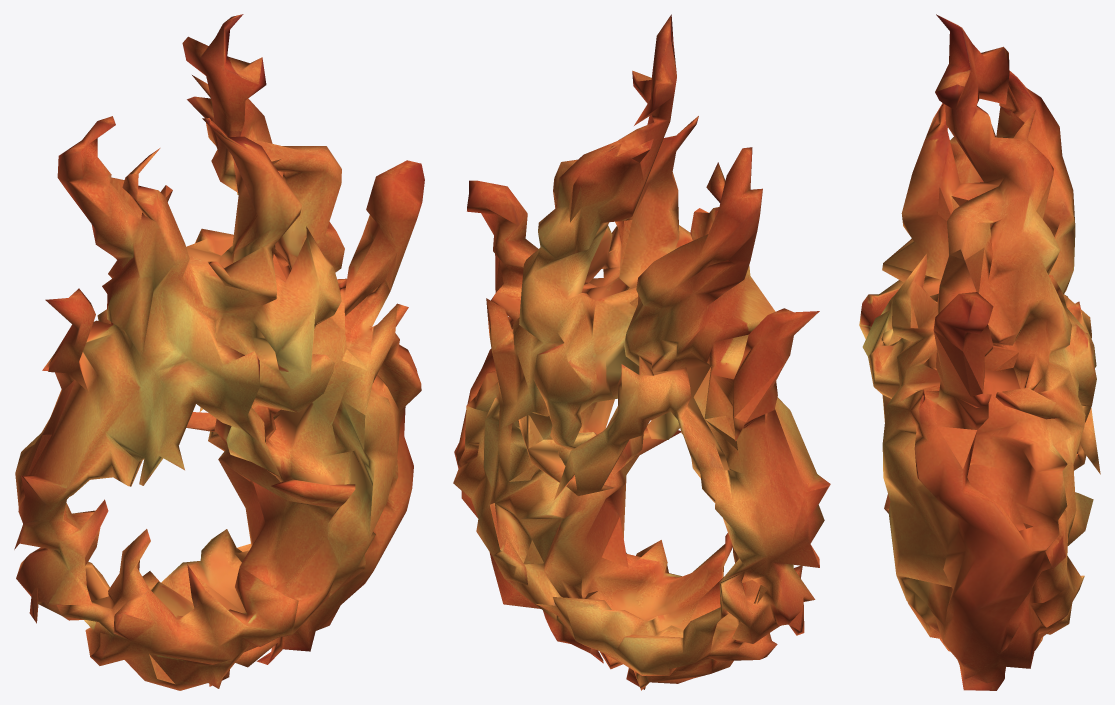
The model's file is Meshy_AI_Infernal_Ember_0904093826_texture.fbx.
3 renders of one model, left to right at view 1: azimuth 30°, elevation 25°; view 2: azimuth 150°, elevation 25°; view 3: azimuth 270°, elevation 25°, orthographic. The views are drawn at different scales.
Parts seen in each view (by area): view 1: mesh_node; view 2: mesh_node; view 3: mesh_node.
Part boxes in pixels (x1,y1,x2,y2): mesh_node: (14, 14, 424, 690); mesh_node: (453, 14, 830, 690); mesh_node: (859, 14, 1100, 690).
Bounding box in the file's own units: 113 × 191 × 62.8.
Materials: 1 (1 with a texture image).
